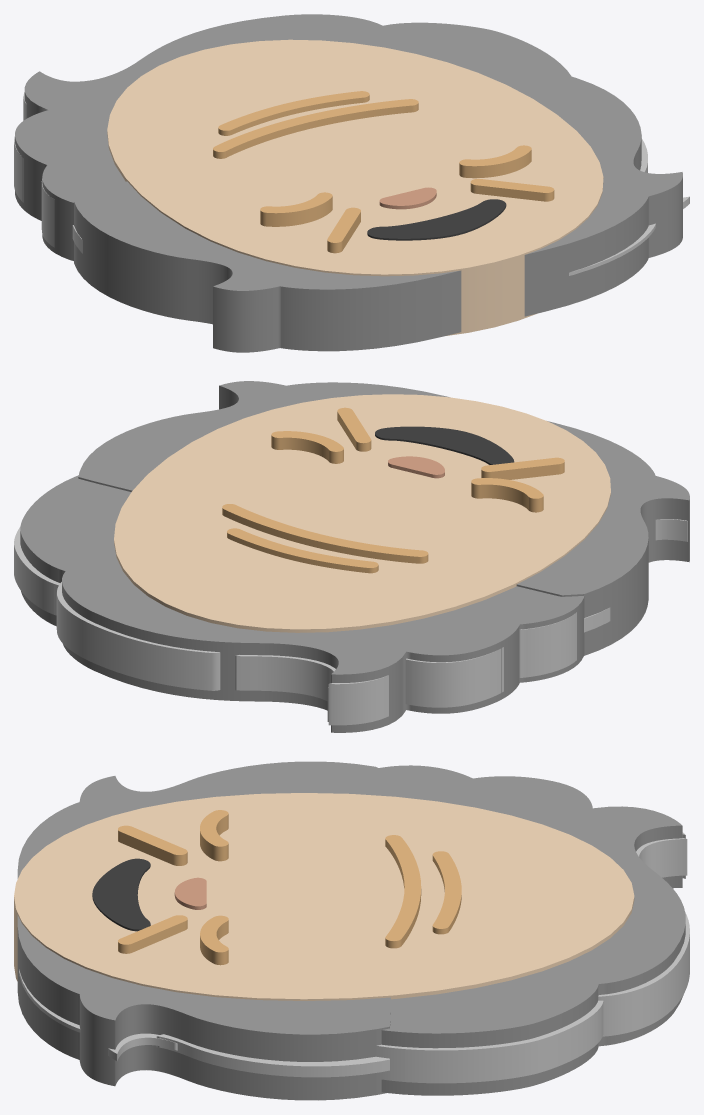
The model's file is emoji_u1f9d3_1f3fb.glb.
3 views of the same model, one above another, from view 1: azimuth 30°, elevation 25°; view 2: azimuth 150°, elevation 25°; view 3: azimuth 270°, elevation 25° (orthographic). The views are drawn at different scales.
Parts seen in each view (by area): view 1: emoji_u1f9d3_1f3fb; view 2: emoji_u1f9d3_1f3fb; view 3: emoji_u1f9d3_1f3fb.
Part boxes in pixels (x1,y1,x2,y2): emoji_u1f9d3_1f3fb: (14, 14, 689, 352); emoji_u1f9d3_1f3fb: (14, 381, 689, 732); emoji_u1f9d3_1f3fb: (14, 761, 689, 1100).
Size of the model in its own units: 0.0325 by 0.0054 by 0.0335.
